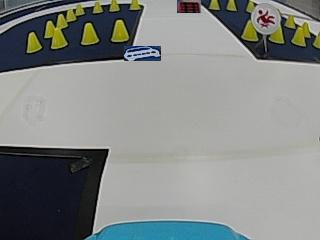cone: (81, 22, 99, 45), (110, 19, 128, 42), (241, 20, 258, 41), (51, 28, 66, 49), (26, 31, 40, 52), (292, 25, 305, 46), (270, 27, 284, 44), (285, 13, 295, 29), (56, 13, 66, 29), (44, 20, 53, 37), (92, 1, 103, 14), (65, 8, 75, 22), (226, 0, 237, 11), (109, 0, 119, 12), (75, 3, 84, 16), (208, 0, 219, 10), (129, 0, 140, 10)
tumble: (253, 4, 279, 31)
